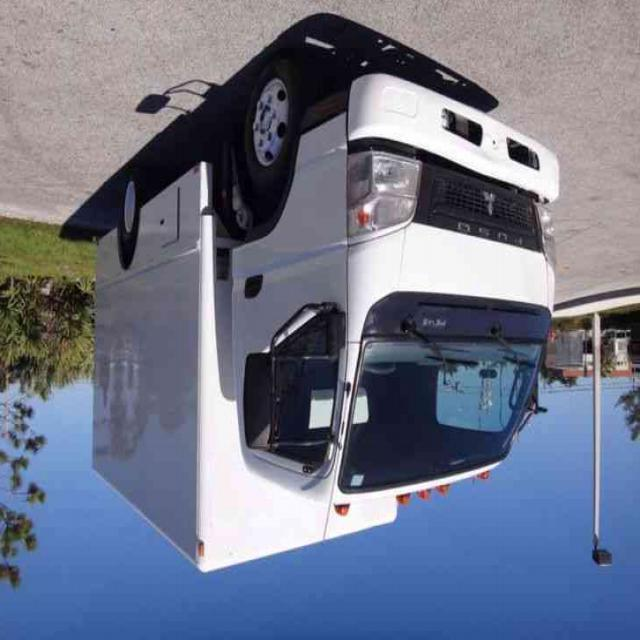truck: (94, 58, 562, 576)
